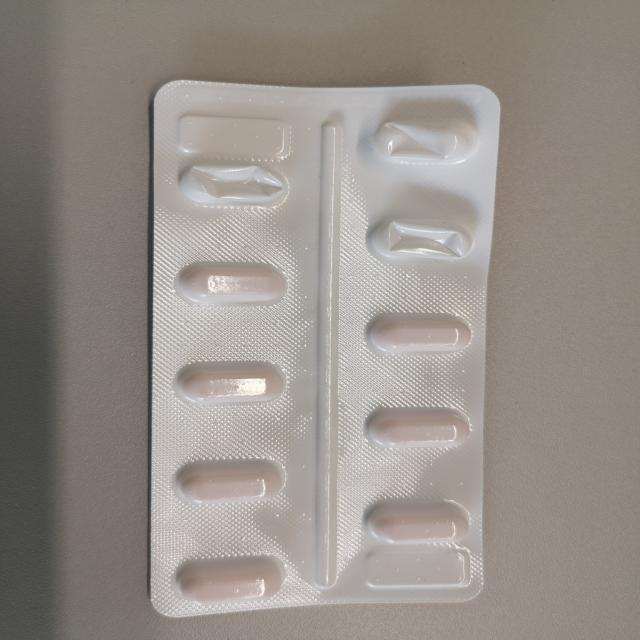Empty: (168, 155, 305, 216), (353, 112, 490, 170), (353, 215, 484, 272)
Pill: (357, 488, 477, 552), (168, 548, 292, 608), (172, 254, 297, 312), (355, 303, 475, 363), (166, 350, 288, 408), (166, 450, 288, 505), (355, 398, 475, 452)
